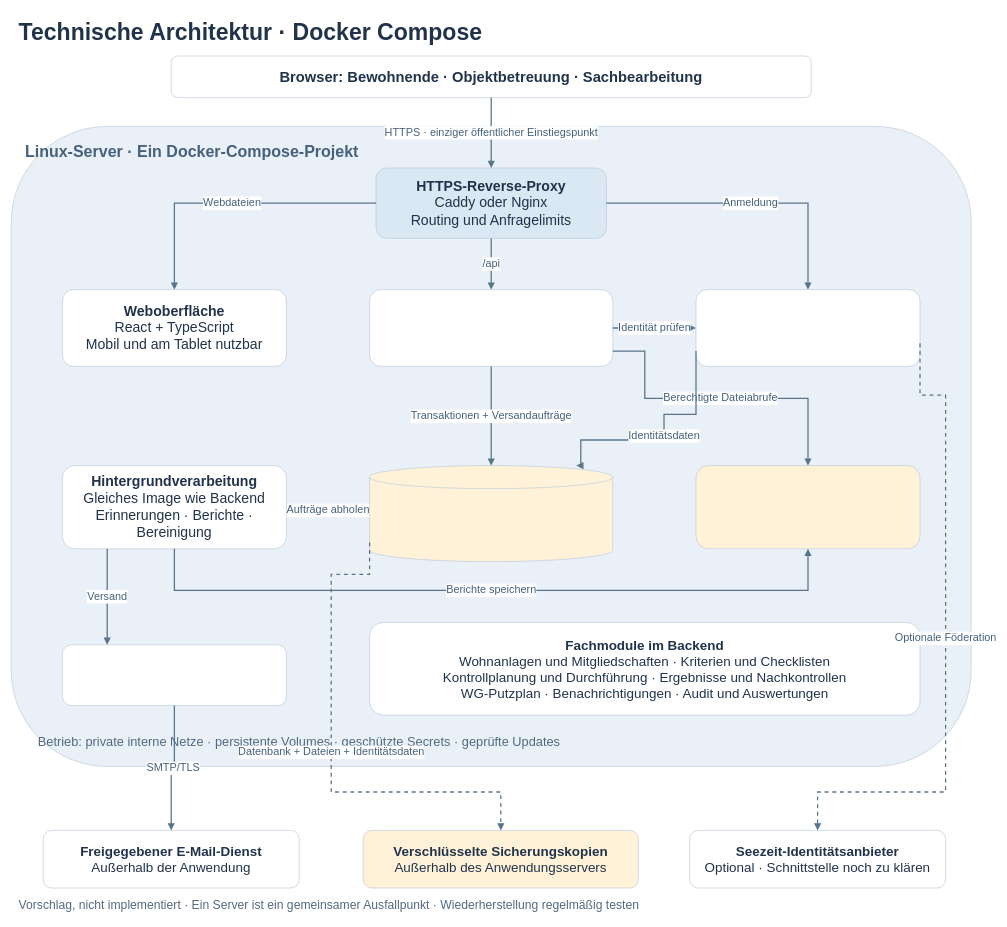
The diagram is 1007 pixels wide and 927 high, and some of its shapes have lost their labels. The centre of each missing label's shape, as x and y in pixels:
"Anmeldedienst Keycloak · Rollen und MFA Optionale Seezeit-SSO-Anbindung" goes at pixel 807 327.
"Backend-API Spring Boot · Modularer Monolith Geschäftsregeln und Zugriffsprüfung" goes at pixel 491 327.
"PostgreSQL Fachdaten · Audit · Outbox Getrennte Datenbank/Zugänge für Keycloak" goes at pixel 491 513.
"Privater Dateispeicher Fotos und Prüfprotokolle Zugriff über das Backend" goes at pixel 807 507.
"SMTP-Relay Versand von E-Mails" goes at pixel 174 675.
